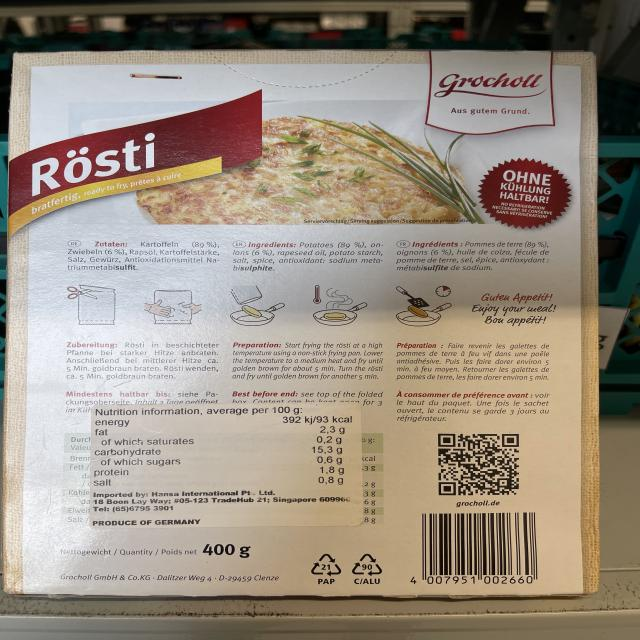object_name: (18, 55, 589, 594)
